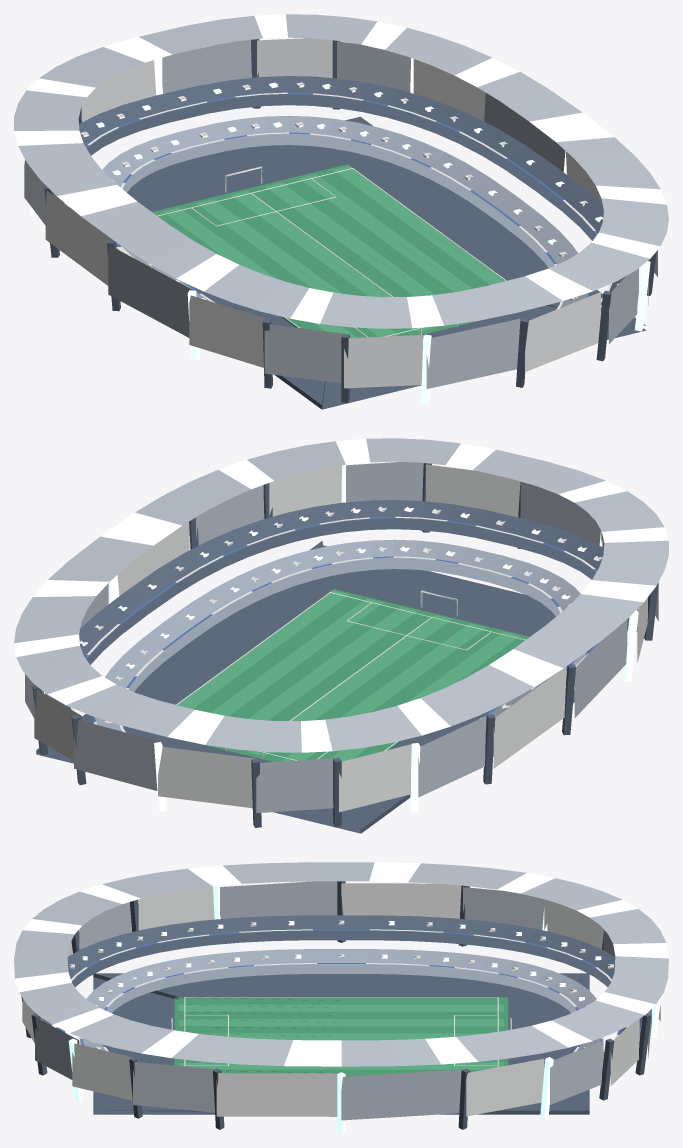
The model's file is kingdom-arena.glb.
3 renders of one model, top to bottom at view 1: azimuth 30°, elevation 25°; view 2: azimuth 150°, elevation 25°; view 3: azimuth 270°, elevation 25°, orthographic. The views are drawn at different scales.
Visible parts, largest first — view 1: Kingdom Arena; view 2: Kingdom Arena; view 3: Kingdom Arena.
Boxes of the visible parts, <box> form: Kingdom Arena: <box>14,14,668,409</box>; Kingdom Arena: <box>14,438,668,833</box>; Kingdom Arena: <box>14,862,668,1133</box>.
Size of the model in its own units: 56.5 by 10.95 by 76.52.
